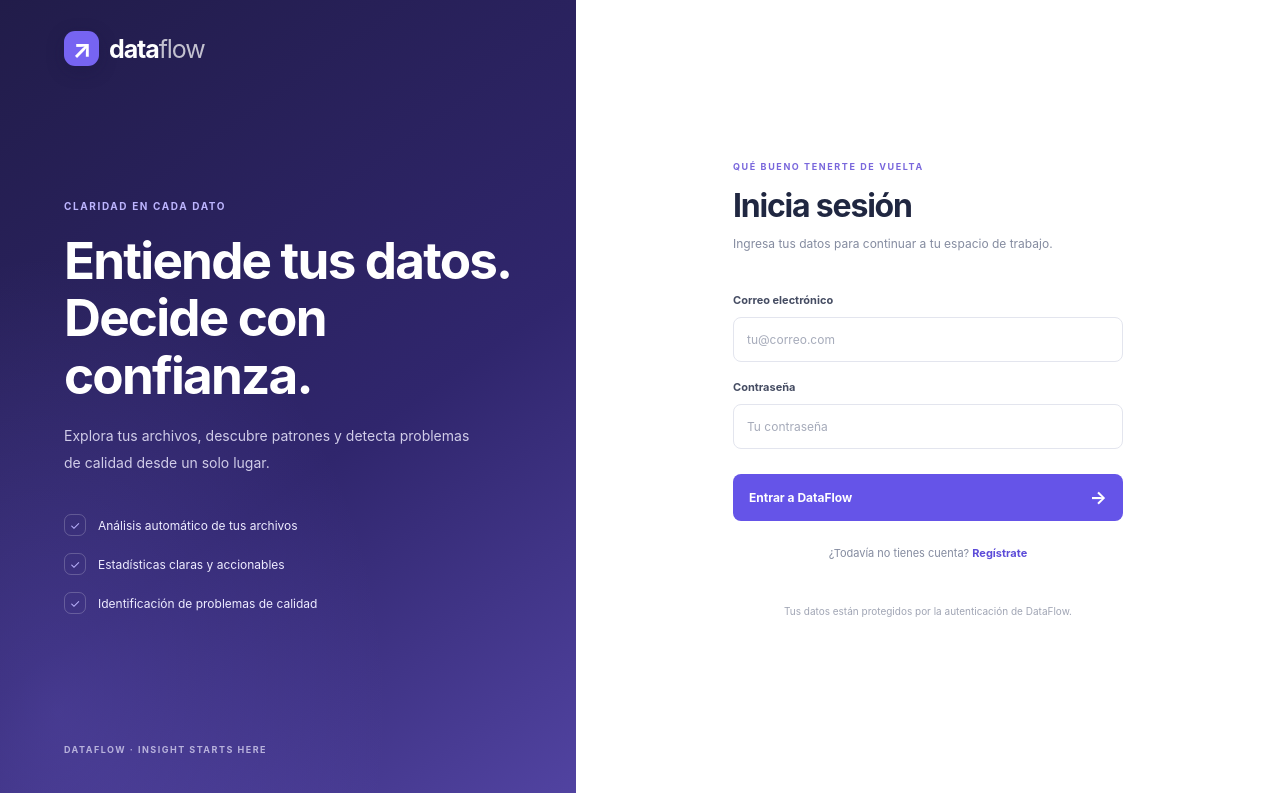
Test: App › informa si el archivo ya está siendo procesado sin iniciar otro análisis
This screenshot has width=1280, height=793.
Type "test@dataflow.com" into the field labelled "Correo electrónico" at (928, 340), box [733, 317, 1123, 362]
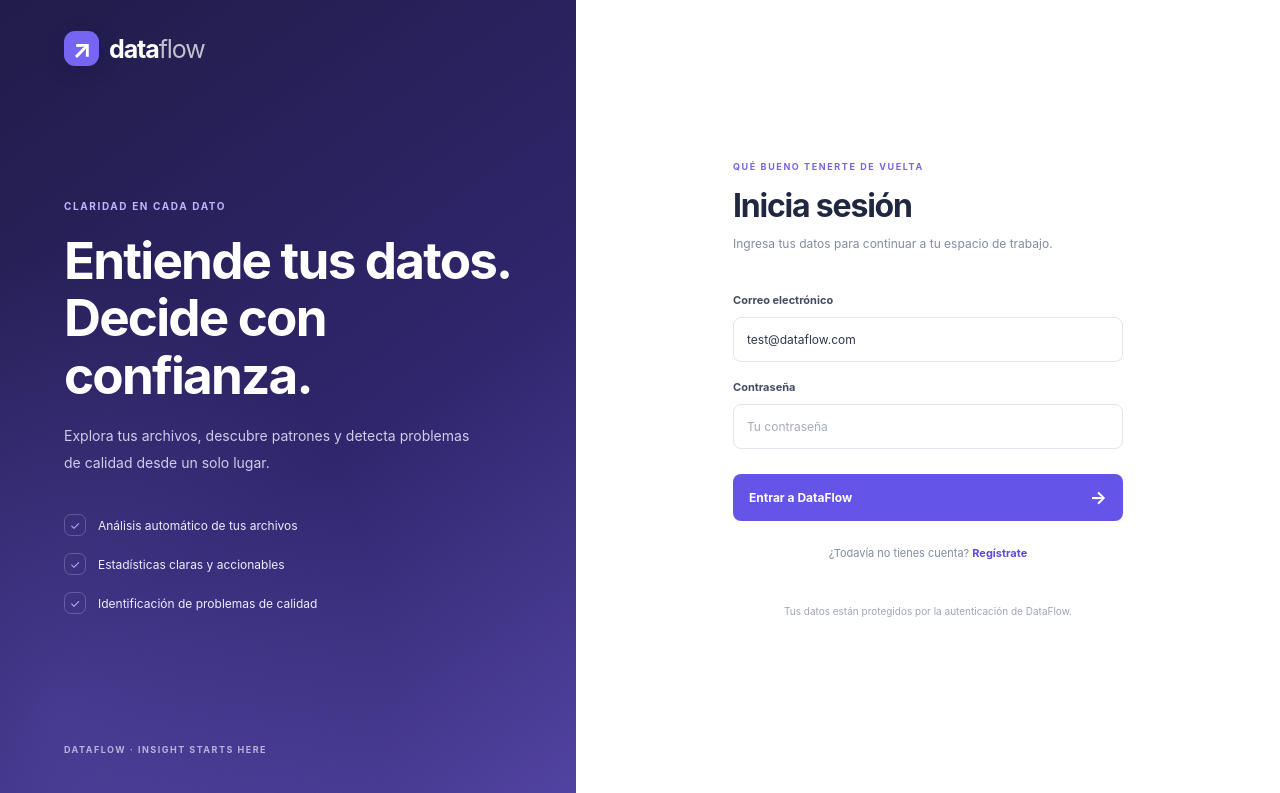
Type "password123" into the password field labelled "Contraseña" at (928, 427), box [733, 404, 1123, 449]
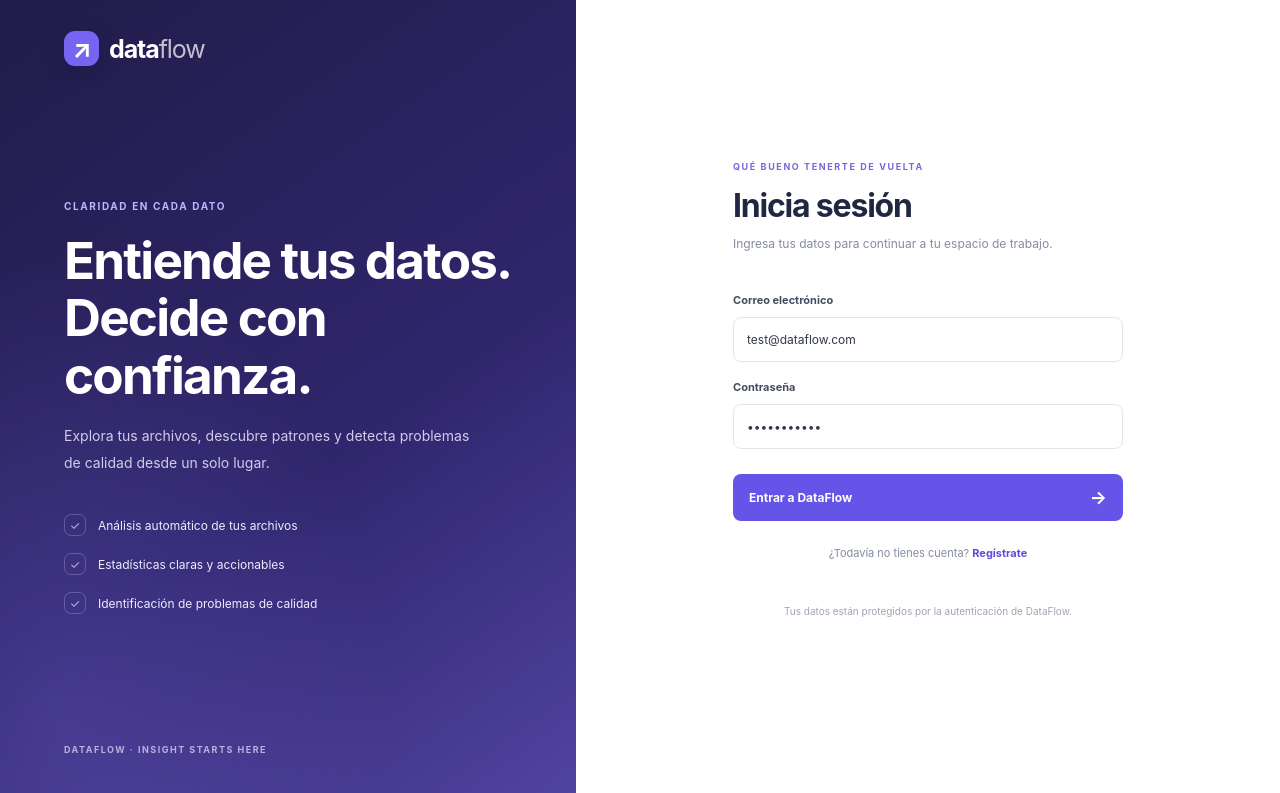
Click the button "Entrar a DataFlow →" at (801, 498), box [733, 474, 1123, 521]
(page scrolled)
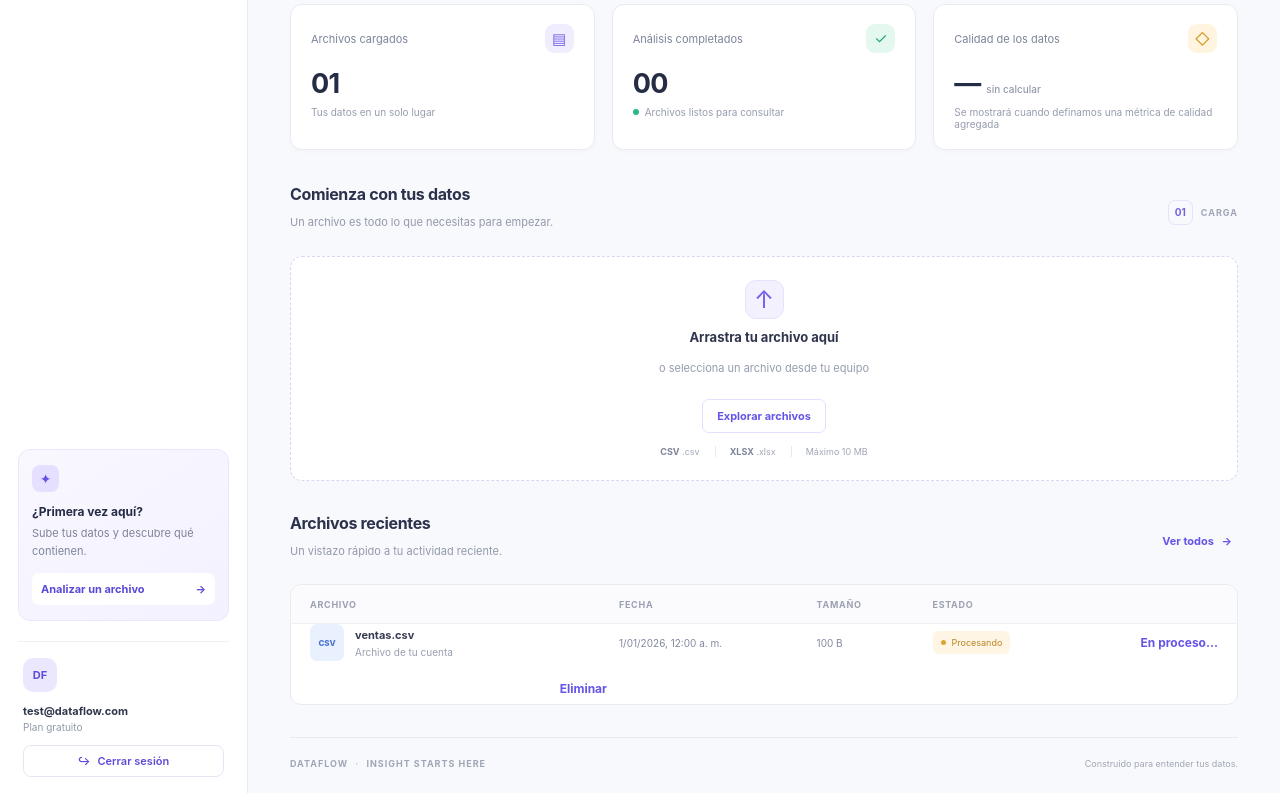
Click the button "En proceso..." at (1175, 643), box [1133, 627, 1218, 658]
(page scrolled)
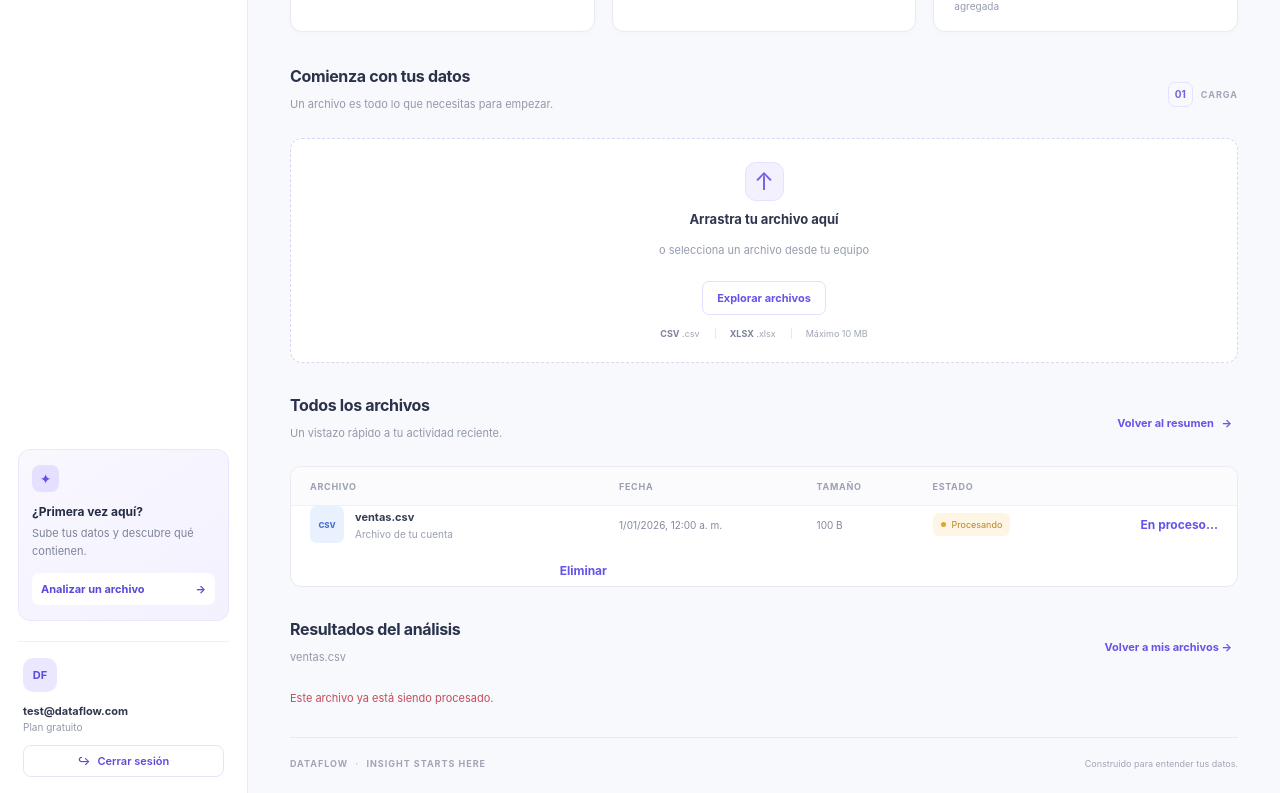
Check: the message reads "Este archivo ya está siendo procesado.", box [290, 691, 494, 705]
